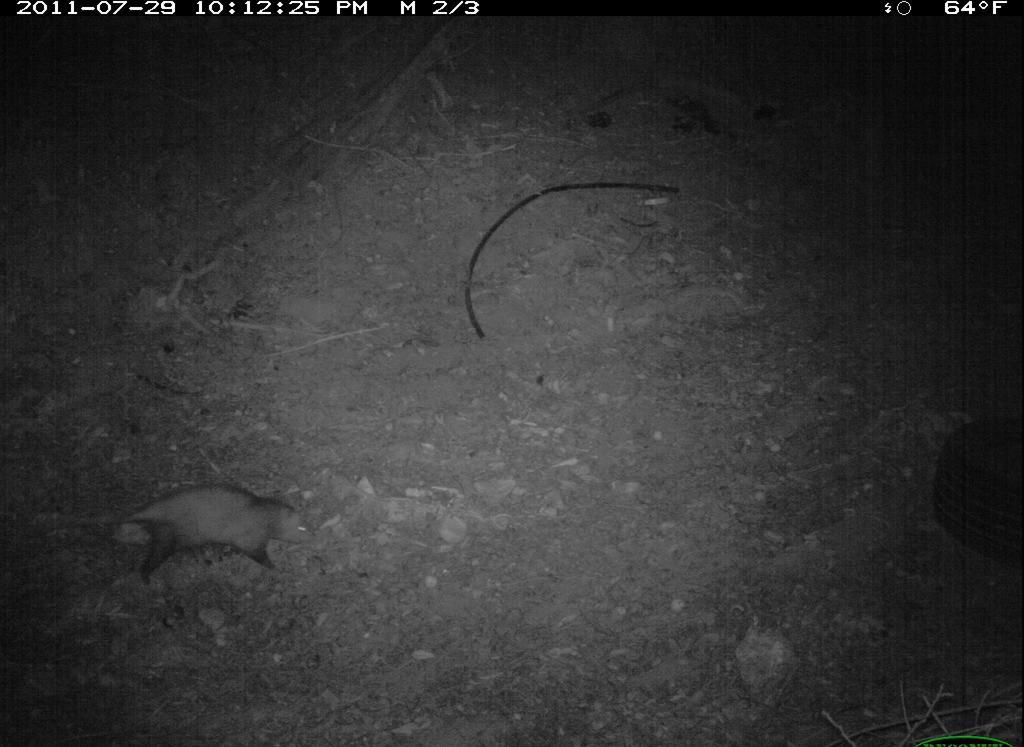opossum: (20, 468, 346, 594)
